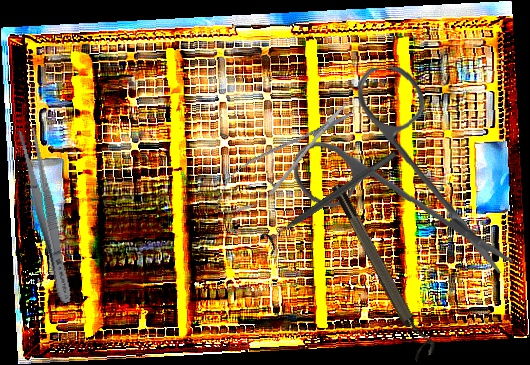Dressing Forceps: (15, 126, 78, 306)
Fixation Ring: (328, 177, 439, 363), (256, 142, 404, 257)
Iris Scissors: (287, 61, 514, 284)
Micro Scissor: (203, 91, 363, 229)
